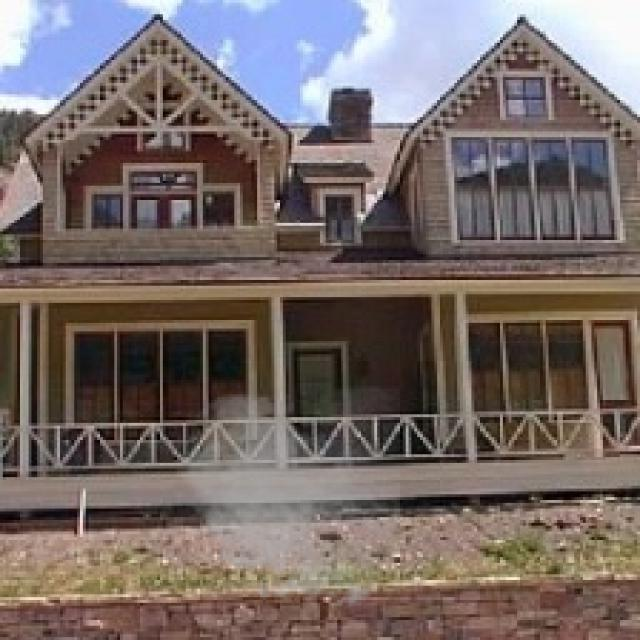smoke: (169, 386, 400, 614)
